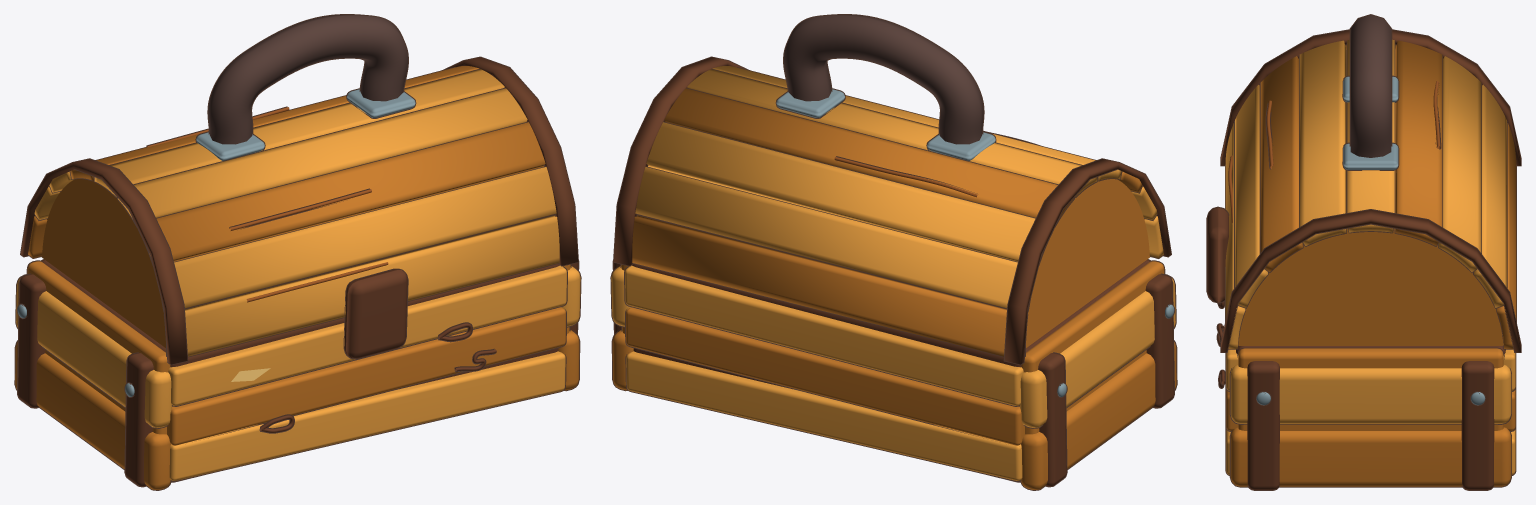
File: cartoon_10003.glb
3 views of the same model, side by side, from view 1: azimuth 30°, elevation 25°; view 2: azimuth 150°, elevation 25°; view 3: azimuth 270°, elevation 25° (orthographic).
Parts seen in each view (by area): view 1: Surface_Cartoon_woodlight, Surface_Cartoon_wood, Surface_Cartoon_wooddark, Surface_Cartoon_edge, Surface_ink, Surface_Cartoon_metal, Surface_Cartoon_grain; view 2: Surface_Cartoon_woodlight, Surface_Cartoon_wood, Surface_Cartoon_wooddark, Surface_Cartoon_edge, Surface_ink, Surface_Cartoon_metal; view 3: Surface_Cartoon_wood, Surface_Cartoon_woodlight, Surface_Cartoon_wooddark, Surface_ink, Surface_Cartoon_edge, Surface_Cartoon_metal, Surface_Cartoon_grain.
Part boxes in pixels (x1=…): Surface_Cartoon_woodlight: x1=16, y1=69, x2=580, y2=480; Surface_Cartoon_wood: x1=15, y1=66, x2=579, y2=489; Surface_Cartoon_wooddark: x1=18, y1=57, x2=578, y2=486; Surface_Cartoon_edge: x1=208, y1=15, x2=407, y2=144; Surface_ink: x1=14, y1=14, x2=581, y2=490; Surface_Cartoon_metal: x1=17, y1=89, x2=415, y2=396; Surface_Cartoon_grain: x1=147, y1=107, x2=388, y2=302; Surface_Cartoon_woodlight: x1=611, y1=66, x2=1175, y2=480; Surface_Cartoon_wood: x1=612, y1=88, x2=1176, y2=489; Surface_Cartoon_wooddark: x1=613, y1=57, x2=1173, y2=486; Surface_Cartoon_edge: x1=784, y1=15, x2=983, y2=144; Surface_ink: x1=610, y1=14, x2=1177, y2=490; Surface_Cartoon_metal: x1=776, y1=89, x2=1174, y2=396; Surface_Cartoon_wood: x1=1226, y1=40, x2=1516, y2=486; Surface_Cartoon_woodlight: x1=1225, y1=39, x2=1515, y2=474; Surface_Cartoon_wooddark: x1=1207, y1=30, x2=1520, y2=489; Surface_ink: x1=1206, y1=14, x2=1521, y2=490; Surface_Cartoon_edge: x1=1350, y1=15, x2=1391, y2=157; Surface_Cartoon_metal: x1=1256, y1=76, x2=1485, y2=405; Surface_Cartoon_grain: x1=1228, y1=81, x2=1440, y2=224.
Size of the model in its own units: 0.8328 by 0.6467 by 0.504.
